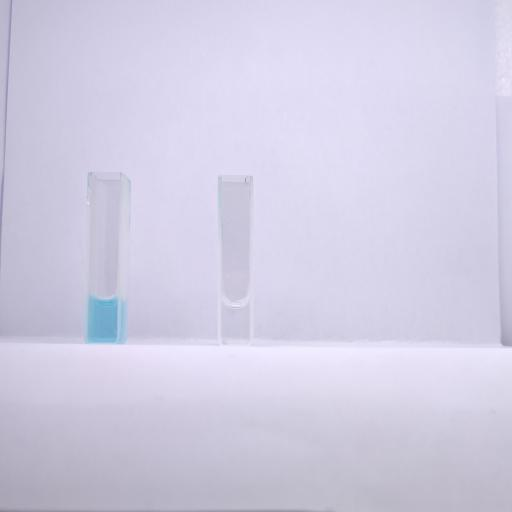cuvette: (82, 168, 126, 348), (215, 172, 257, 349)
liquid: (89, 297, 117, 341), (222, 300, 250, 343)
